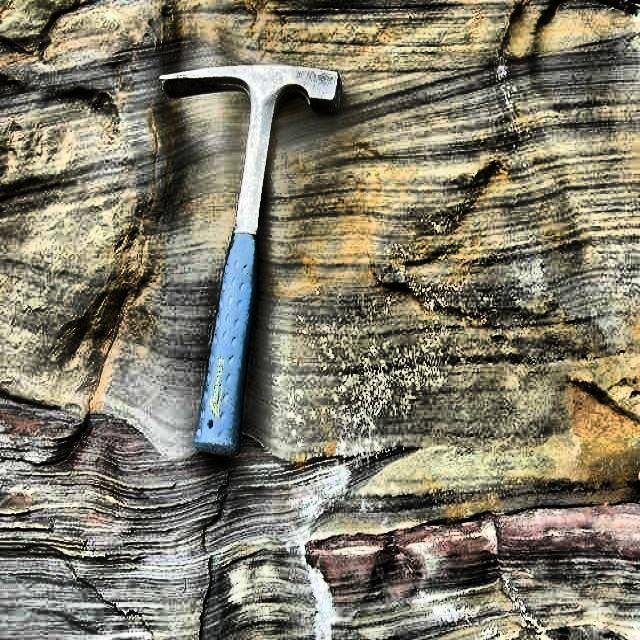hammer: (159, 62, 344, 464)
